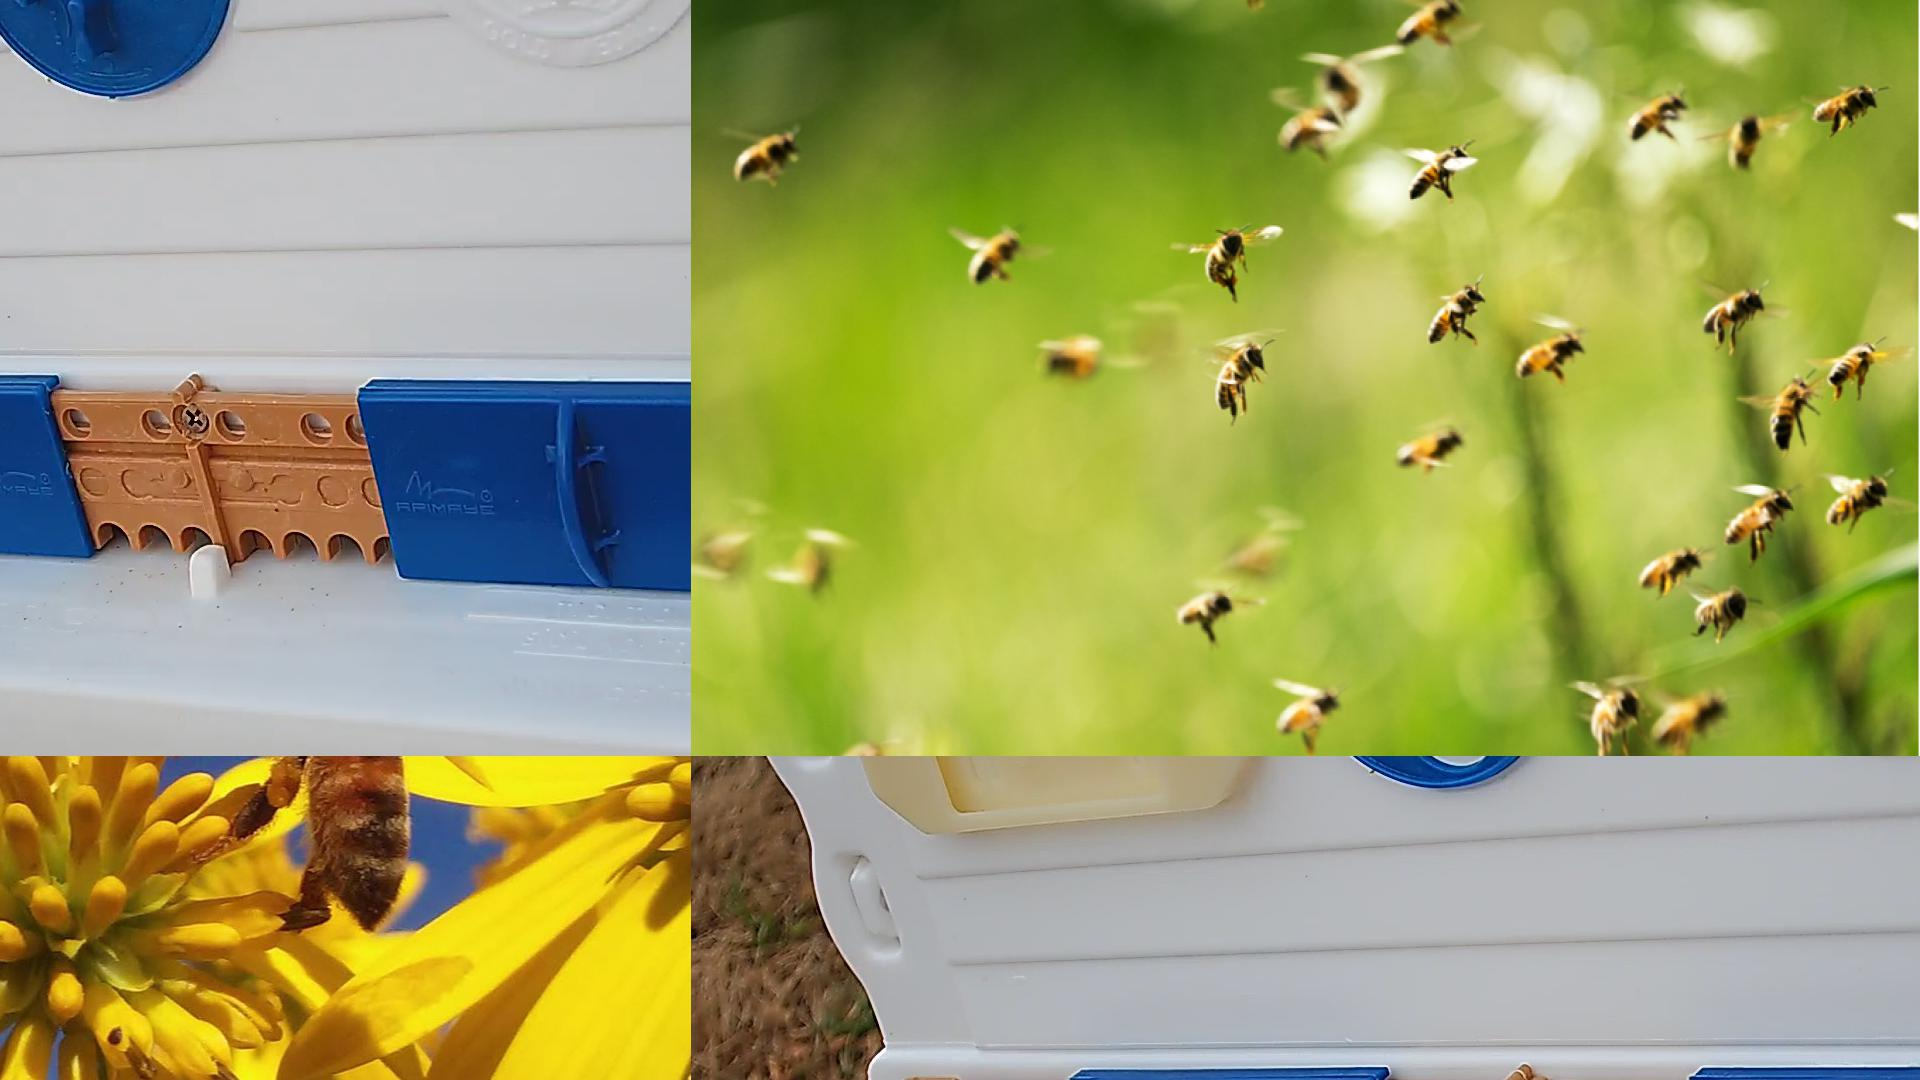bee: (1726, 491, 1792, 542), (1428, 285, 1486, 343), (1658, 698, 1724, 745), (1412, 146, 1468, 200), (1515, 332, 1584, 376), (1828, 477, 1887, 525), (1217, 345, 1262, 406), (1276, 109, 1341, 150), (1702, 287, 1764, 330), (972, 228, 1021, 281), (736, 135, 791, 181), (1771, 377, 1807, 448), (1640, 550, 1701, 588), (1042, 339, 1101, 377), (1399, 430, 1461, 465), (1280, 691, 1336, 731), (1592, 690, 1636, 735), (1633, 98, 1683, 136), (1697, 591, 1749, 628), (1180, 592, 1229, 624), (1327, 69, 1361, 108), (1734, 116, 1760, 166)
pollenbee: (165, 756, 410, 934), (1398, 1, 1460, 45), (1816, 83, 1875, 128), (1829, 344, 1878, 397), (1208, 229, 1246, 287)
